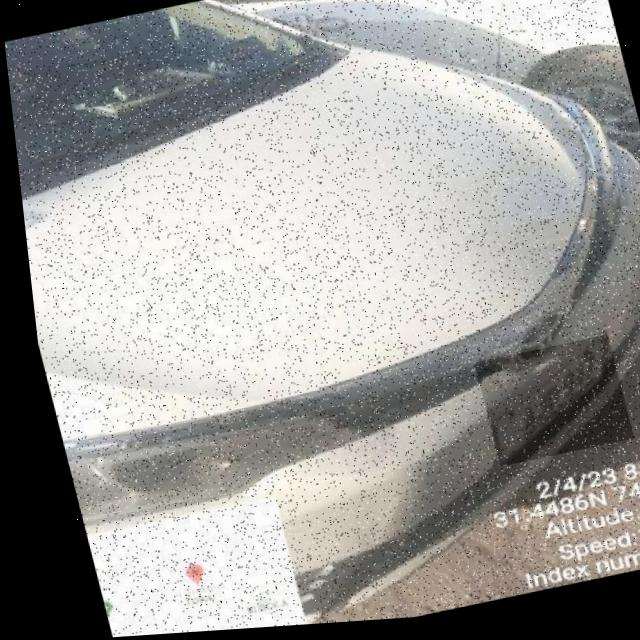LicensePlate: (480, 343, 600, 473)
